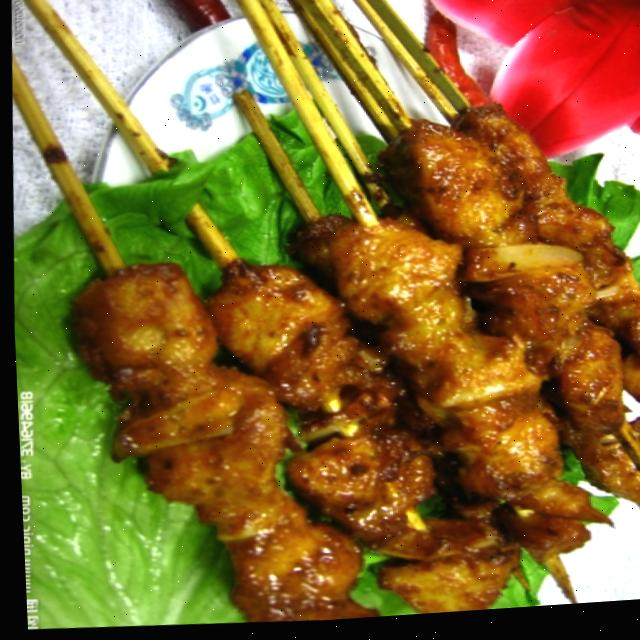烧串烤肉: (54, 31, 640, 637)
